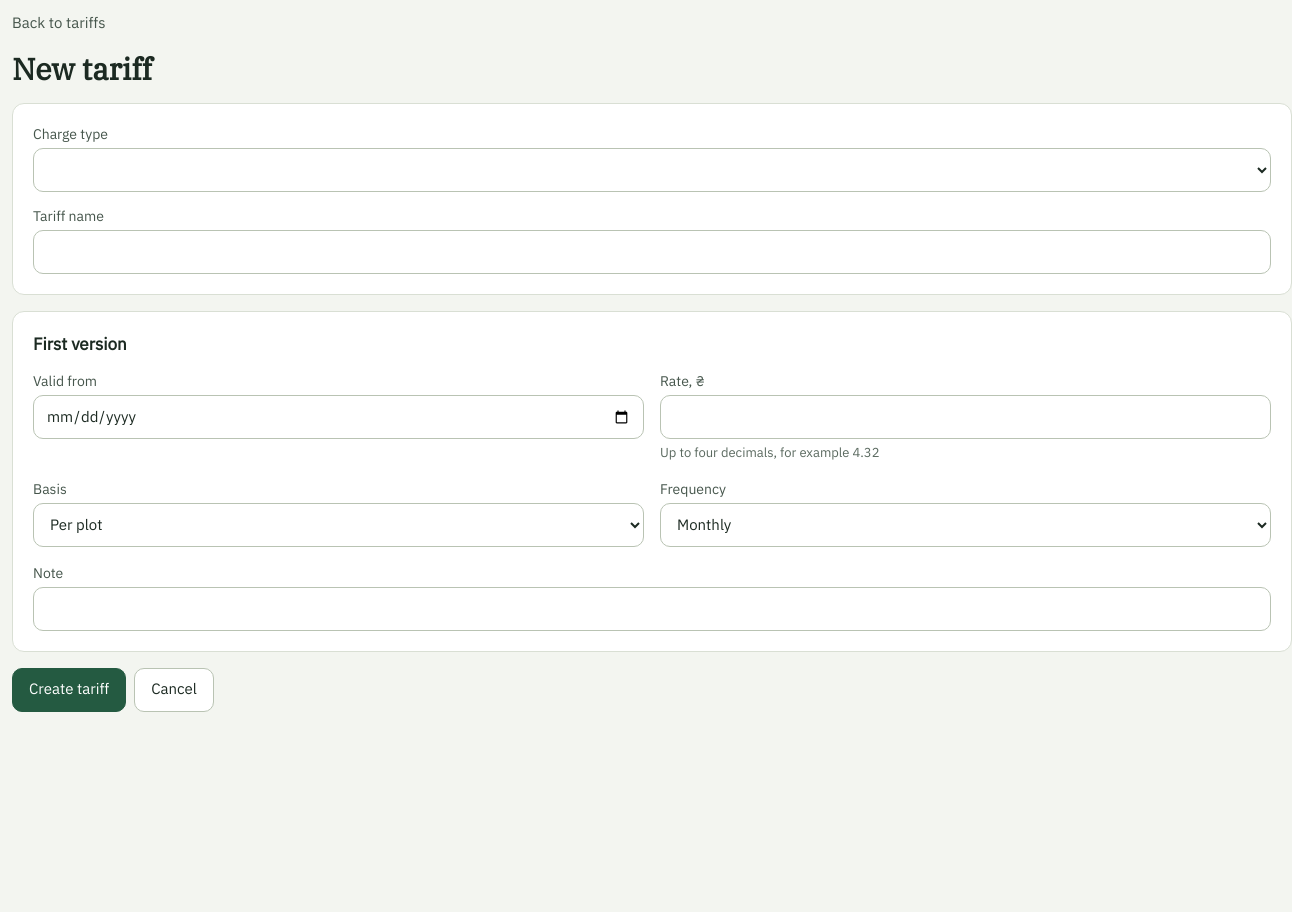
Test: TariffFormPage › blocks a bad rate and a missing due date before sending
This screenshot has width=1292, height=912.
Select "Membership fee" in the dropdown labelled "Charge type" at coordinates (652, 170), box 33,148 -> 1271,192
Type " Per sotka " into the field labelled "Tariff name" at coordinates (652, 252), box 33,230 -> 1271,274
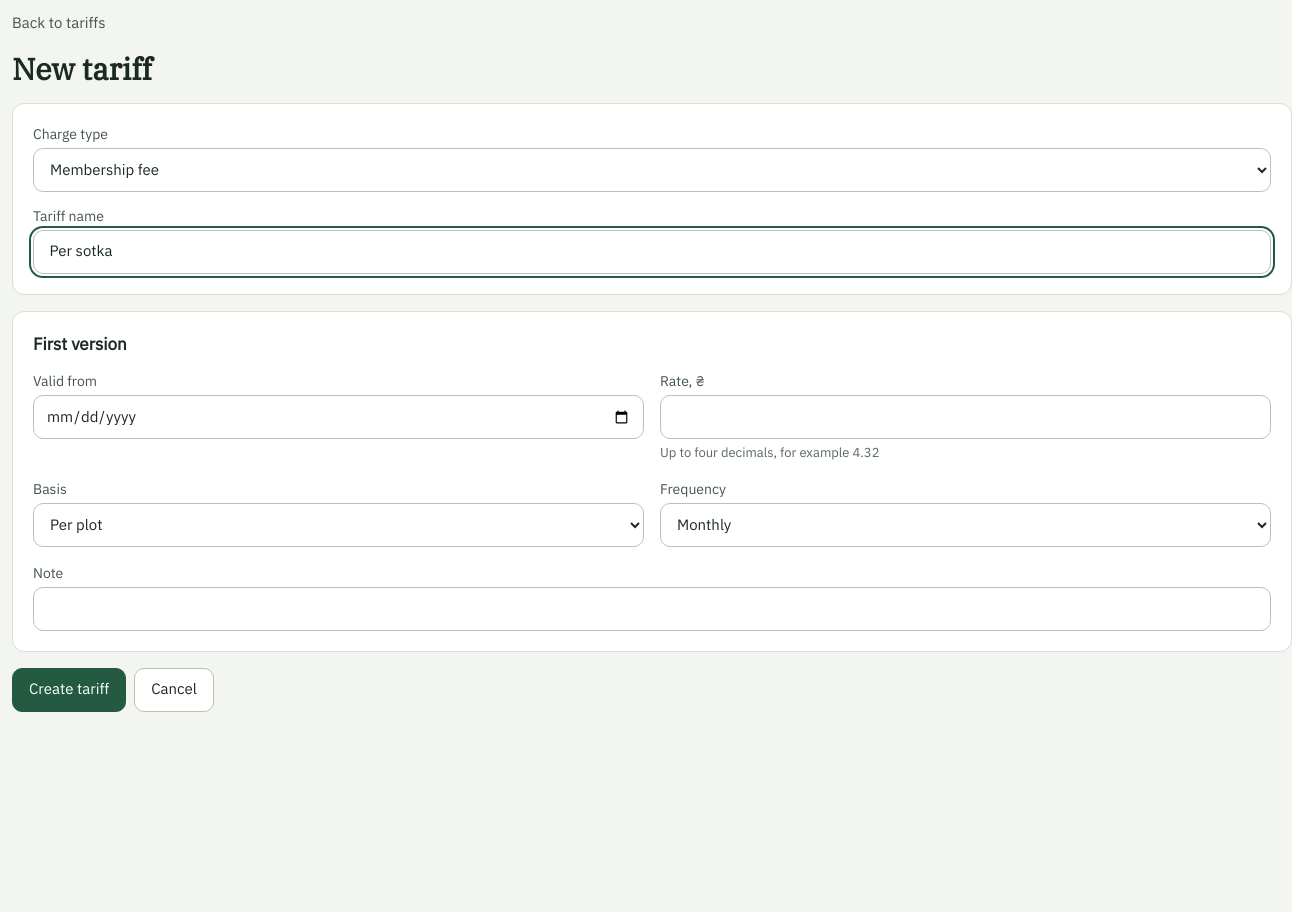
Type "2999-01-01" into the date field labelled "Valid from" at coordinates (338, 417), box 33,395 -> 644,439
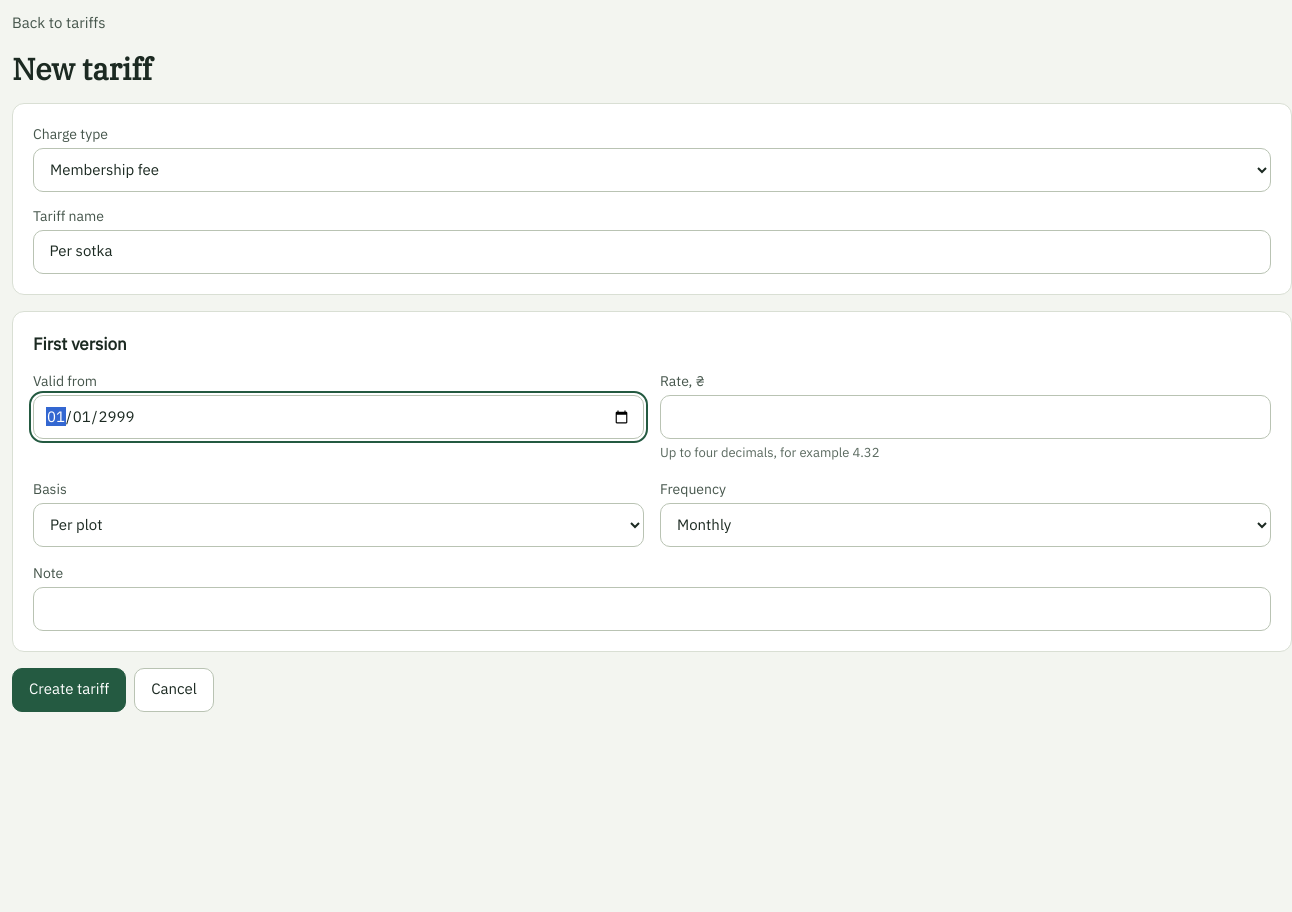
Type "4,32" into the field labelled "Rate, ₴" at coordinates (966, 417), box 660,395 -> 1271,439
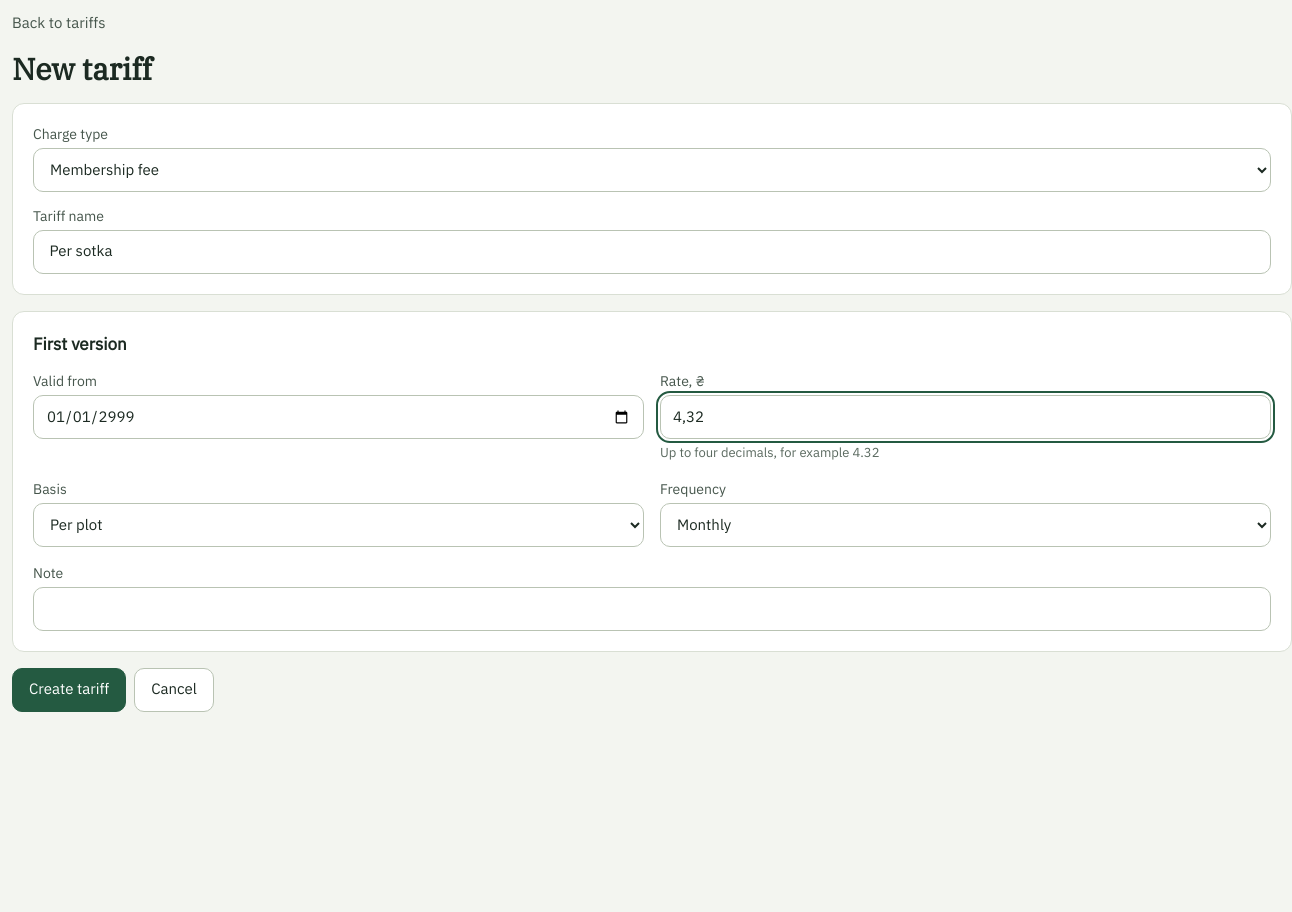
Replace the text in the field labelled "Rate, ₴" with "4.32001" at coordinates (966, 417), box 660,395 -> 1271,439
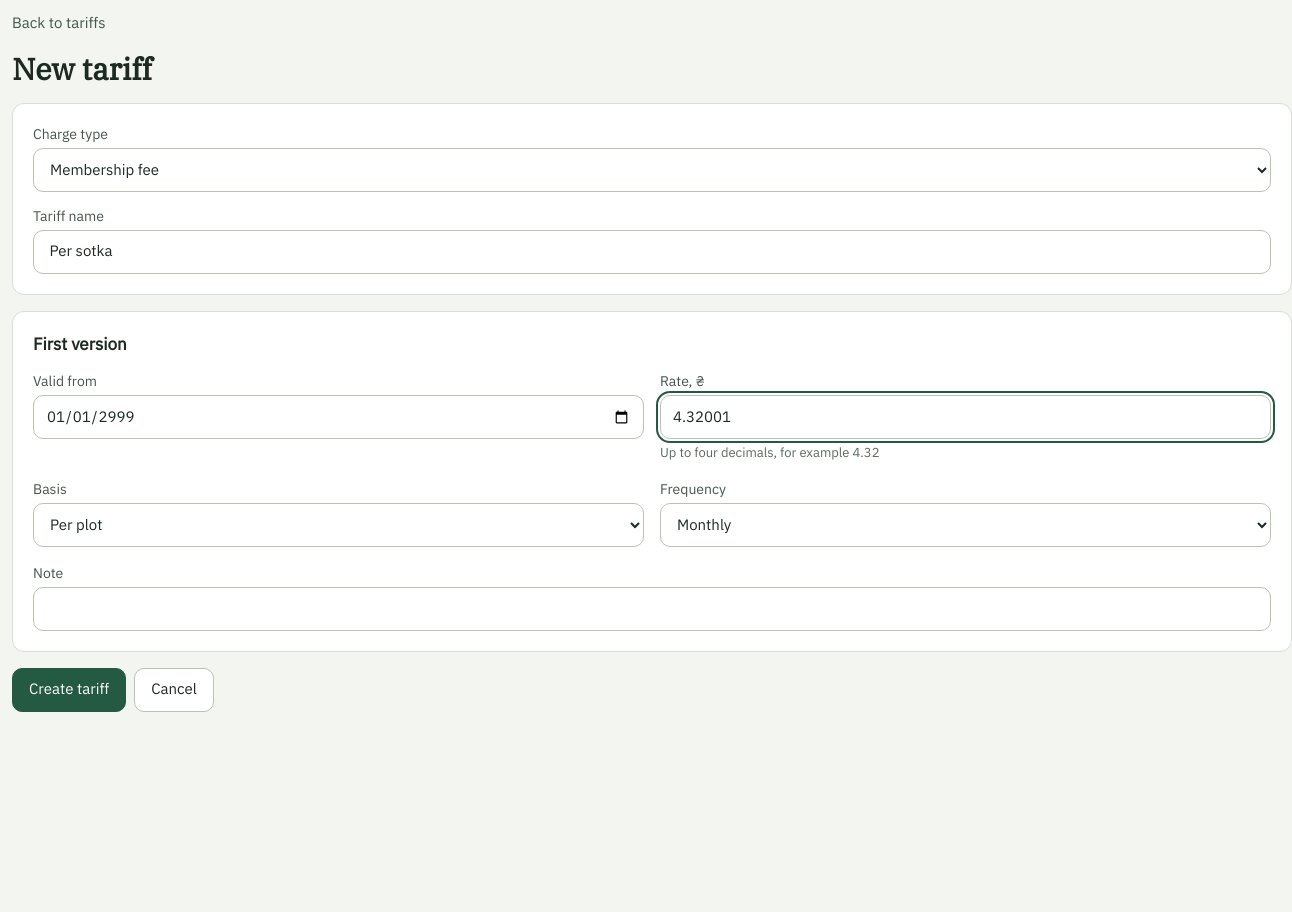
Select "Fixed one-time amount" in the dropdown labelled "Basis" at coordinates (338, 524), box 33,502 -> 644,546
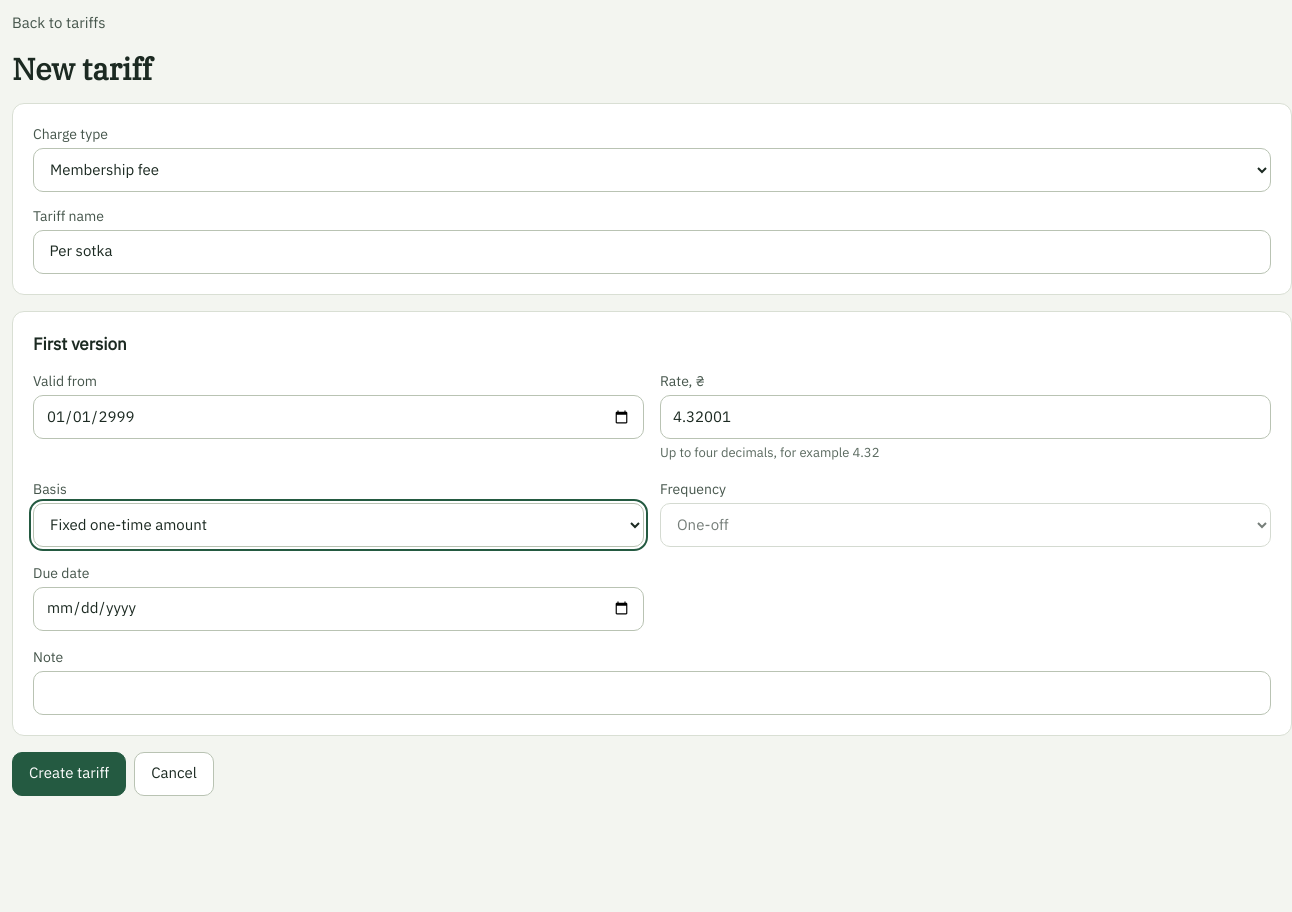
Click the button "Create tariff" at coordinates (69, 774), box 12,752 -> 126,796
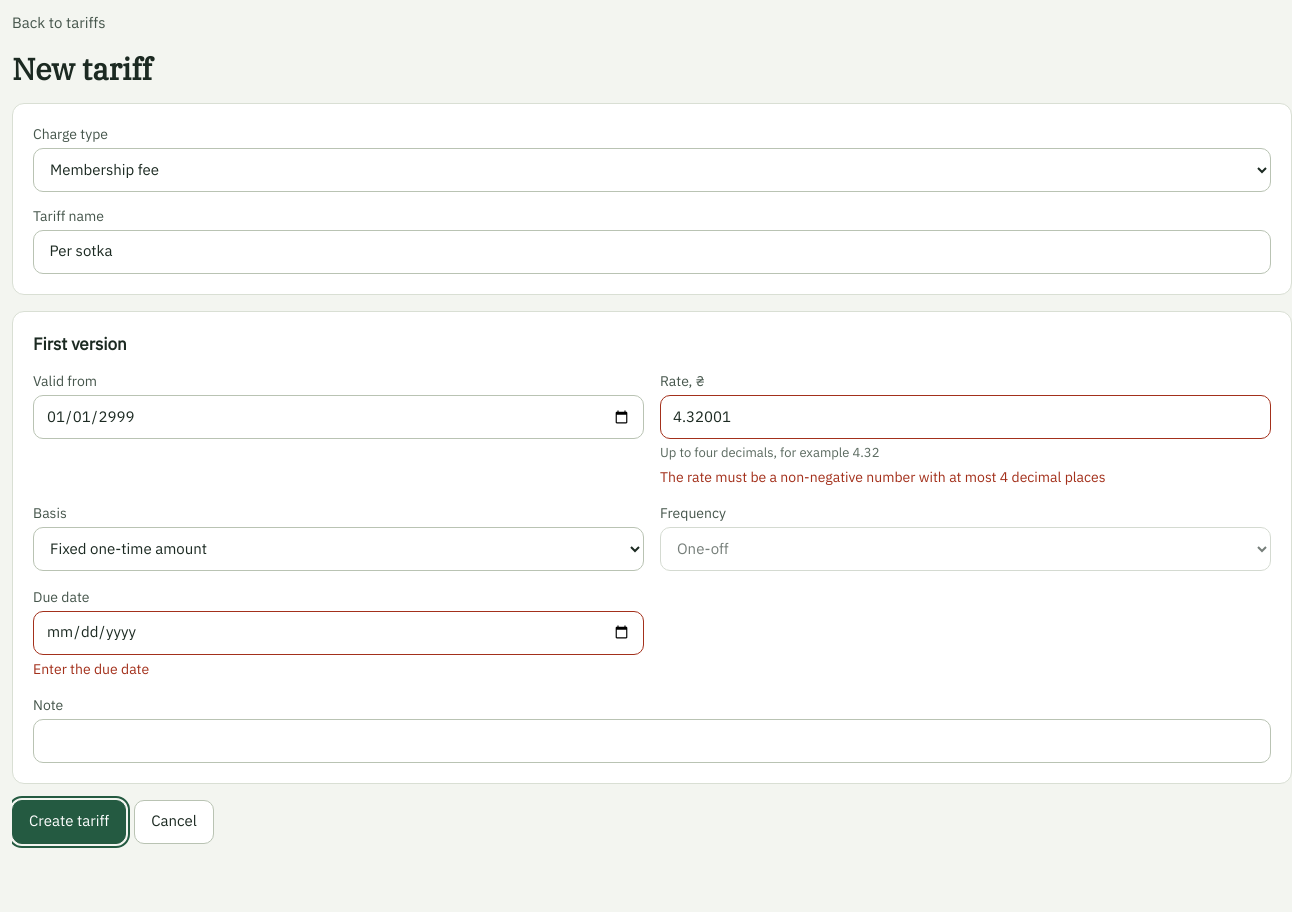
Check: the text "The rate must be a non-negative number with at most 4 decimal places" is shown, box 660,468 -> 1106,486
Check: the text "Enter the due date" is shown, box 33,660 -> 149,678
